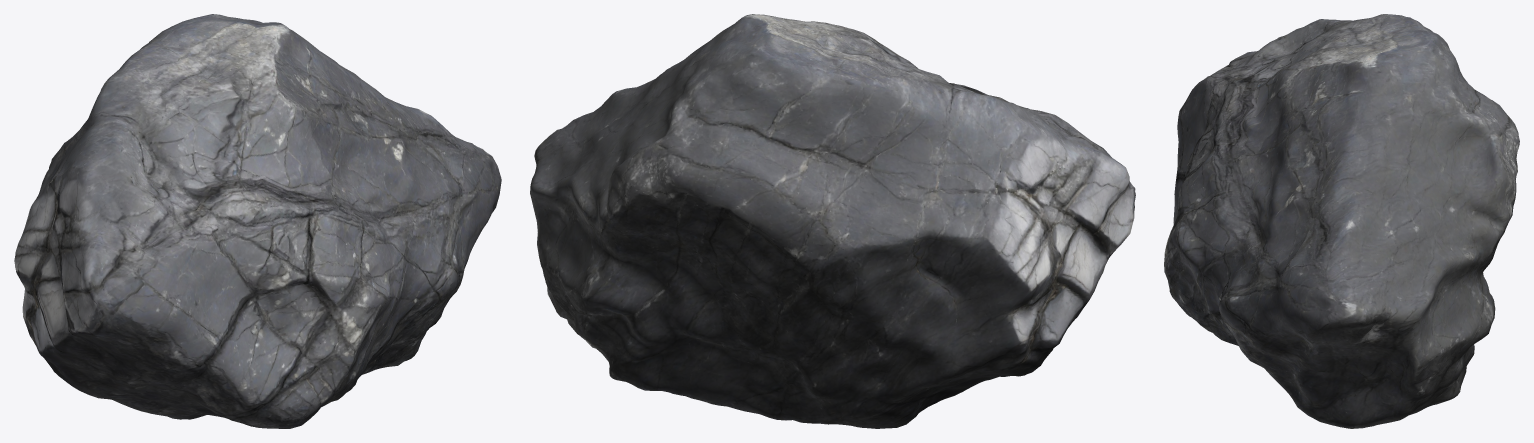
File: erz_original.glb
3 renders of one model, left to right at view 1: azimuth 30°, elevation 25°; view 2: azimuth 150°, elevation 25°; view 3: azimuth 270°, elevation 25°, orthographic. The views are drawn at different scales.
Size of the model in its own units: 1.99 by 1.4 by 1.38.
1 material, 1 textured.
